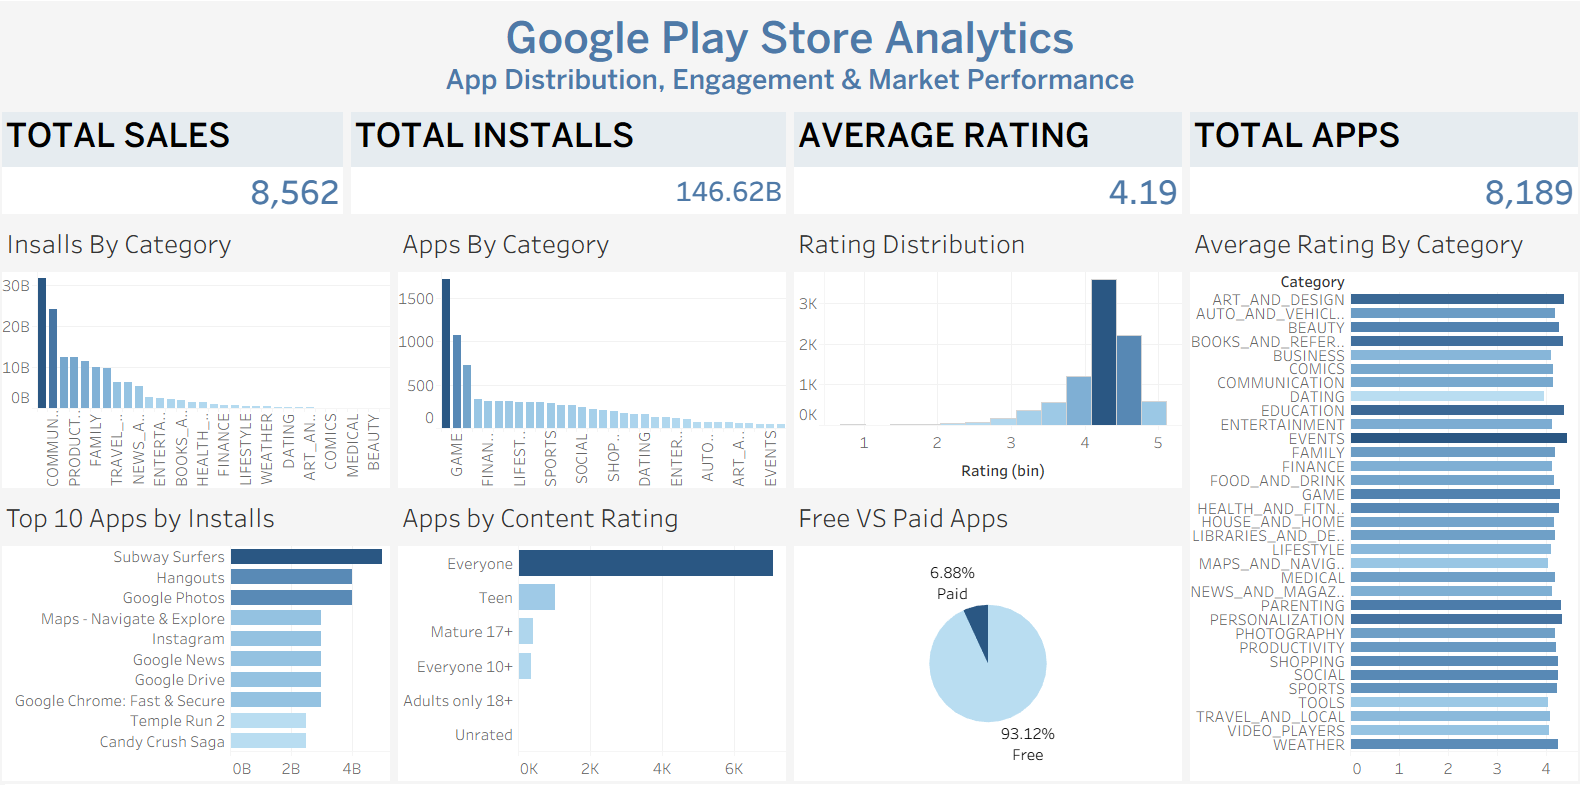

What the dashboard file says about the page in this screenshot:
{"tool":"tableau","page":{"name":"Dashboard 1","canvas":[1600,800],"ordinal":0},"visuals":[{"type":"title","box":[8,8,1584,107]},{"type":"worksheet","title":"Total Sales","mark":"Automatic","box":[8,115,349.2,109.8]},{"type":"worksheet","title":"Total Installs","mark":"Automatic","box":[357.2,115,442.8,109.8]},{"type":"worksheet","title":"Average Rating","mark":"Automatic","box":[800,115,396,110]},{"type":"worksheet","title":"Total Apps","mark":"Text","box":[1195.9,115,396.1,109.8]},{"type":"worksheet","title":"Insalls By Category","mark":"Automatic","rows":["Installs"],"cols":["Category"],"box":[8,224.8,395.9,274.2]},{"type":"worksheet","title":"Apps By Category","mark":"Automatic","rows":["App"],"cols":["Category"],"box":[403.9,224.8,396.1,274.2]},{"type":"worksheet","title":"Average Rating By Category","mark":"Automatic","rows":["Category"],"cols":["Rating"],"box":[1195.9,224.8,396.1,567.2]},{"type":"worksheet","title":"Rating Distribution","mark":"Automatic","rows":["App"],"cols":["Rating (bin)"],"box":[800,225,396,273.9]},{"type":"worksheet","title":"Top 10 Apps by Installs","mark":"Automatic","rows":["App"],"cols":["Installs"],"box":[8,498.9,395.9,293.1]},{"type":"worksheet","title":"Apps by Content Rating","mark":"Automatic","rows":["Content Rating"],"cols":["App"],"box":[403.9,498.9,396.1,293.1]},{"type":"worksheet","title":"Free VS Paid Apps","mark":"Pie","box":[800,498.9,396,293.1]}]}

Visuals, with their boxes in screenshot pixels (x1, y1, x2, y2), scaled from the page's 1600x800 canvas onto the 1580x787 screenshot:
title: 8,8,1572,113
"Total Sales" worksheet: 8,113,353,221
"Total Installs" worksheet: 353,113,790,221
"Average Rating" worksheet: 790,113,1181,221
"Total Apps" worksheet (Text marks): 1181,113,1572,221
"Insalls By Category" worksheet: 8,221,399,491
"Apps By Category" worksheet: 399,221,790,491
"Average Rating By Category" worksheet: 1181,221,1572,779
"Rating Distribution" worksheet: 790,221,1181,491
"Top 10 Apps by Installs" worksheet: 8,491,399,779
"Apps by Content Rating" worksheet: 399,491,790,779
"Free VS Paid Apps" worksheet (Pie marks): 790,491,1181,779
